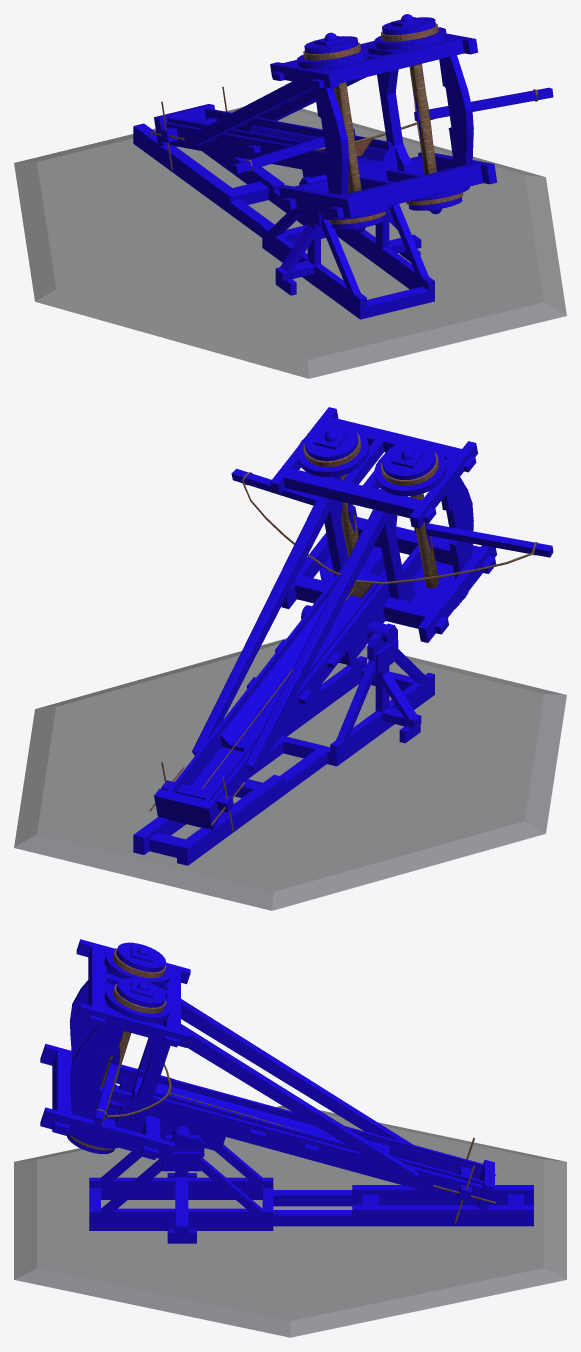
The model's file is Siege  Ranged.fbx.
The picture shows the model from 3 angles, top to bottom: view 1: azimuth 30°, elevation 25°; view 2: azimuth 150°, elevation 25°; view 3: azimuth 270°, elevation 25°; orthographic projection. The views are drawn at different scales.
Parts seen in each view (by area): view 1: Piece Base.005; view 2: Piece Base.005; view 3: Piece Base.005.
Boxes of the visible parts, <box> form: Piece Base.005: <box>14,14,566,378</box>; Piece Base.005: <box>14,407,566,910</box>; Piece Base.005: <box>14,939,566,1337</box>.
Size of the model in its own units: 180 by 91.94 by 180.
